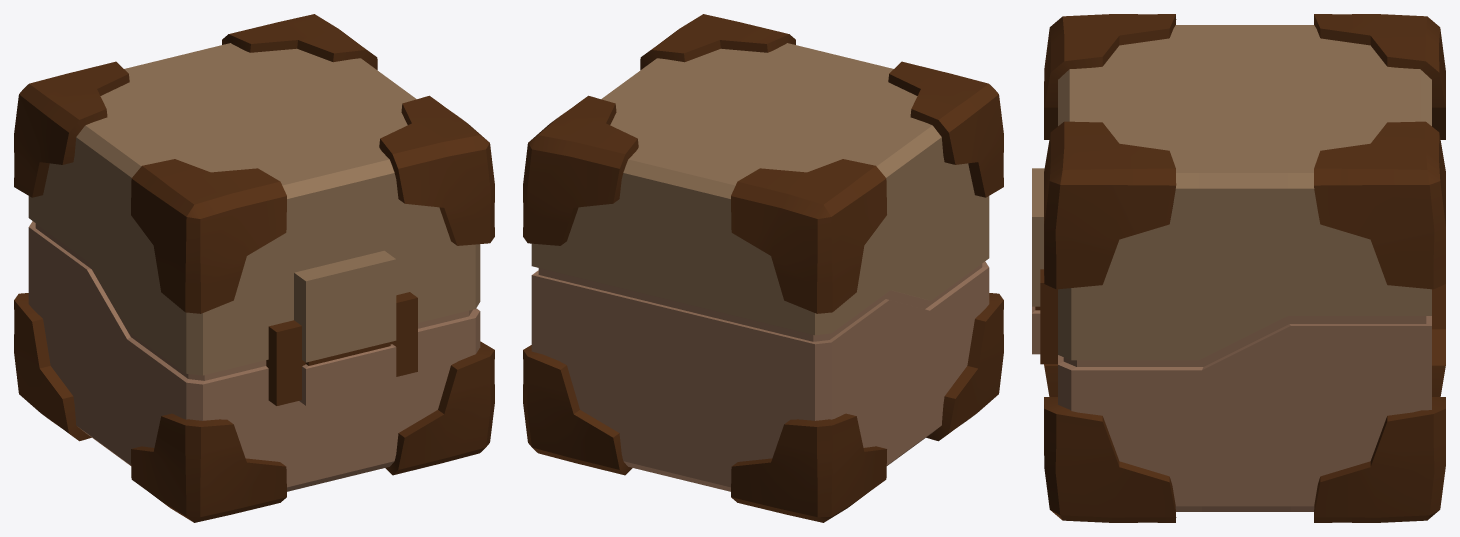
File: low-crate.glb
3 views of the same model, side by side, from view 1: azimuth 30°, elevation 25°; view 2: azimuth 150°, elevation 25°; view 3: azimuth 270°, elevation 25° (orthographic). The views are drawn at different scales.
Parts seen in each view (by area): view 1: Pickup_Crate; view 2: Pickup_Crate; view 3: Pickup_Crate.
Boxes of the visible parts, <box> form: Pickup_Crate: <box>14,14,494,522</box>; Pickup_Crate: <box>523,14,1003,522</box>; Pickup_Crate: <box>1032,14,1445,522</box>.
Size of the model in its own units: 0.916 by 0.9 by 0.9434.
Materials: 1 (1 with a texture image).
